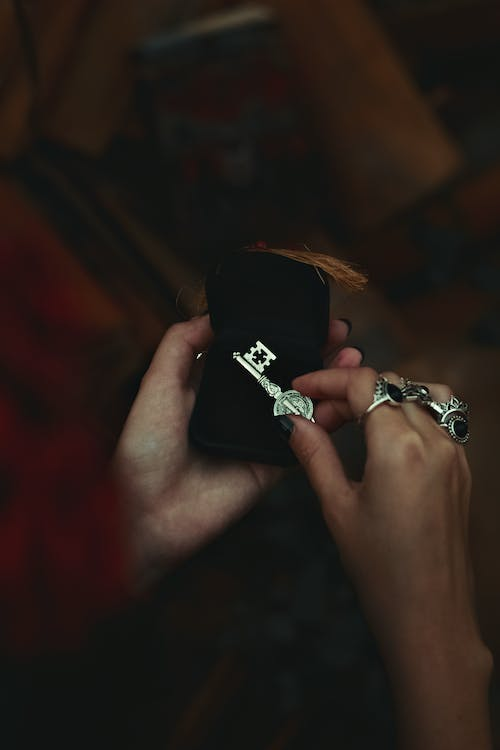key: (235, 338, 316, 430)
